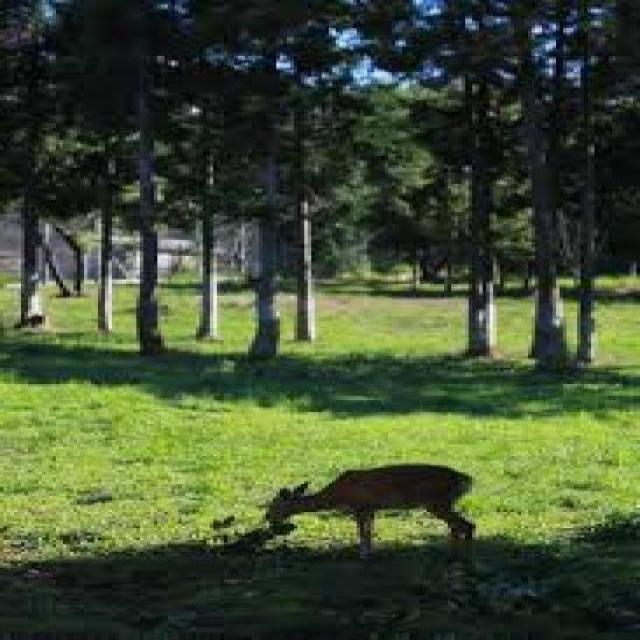deer: (254, 442, 497, 565)
